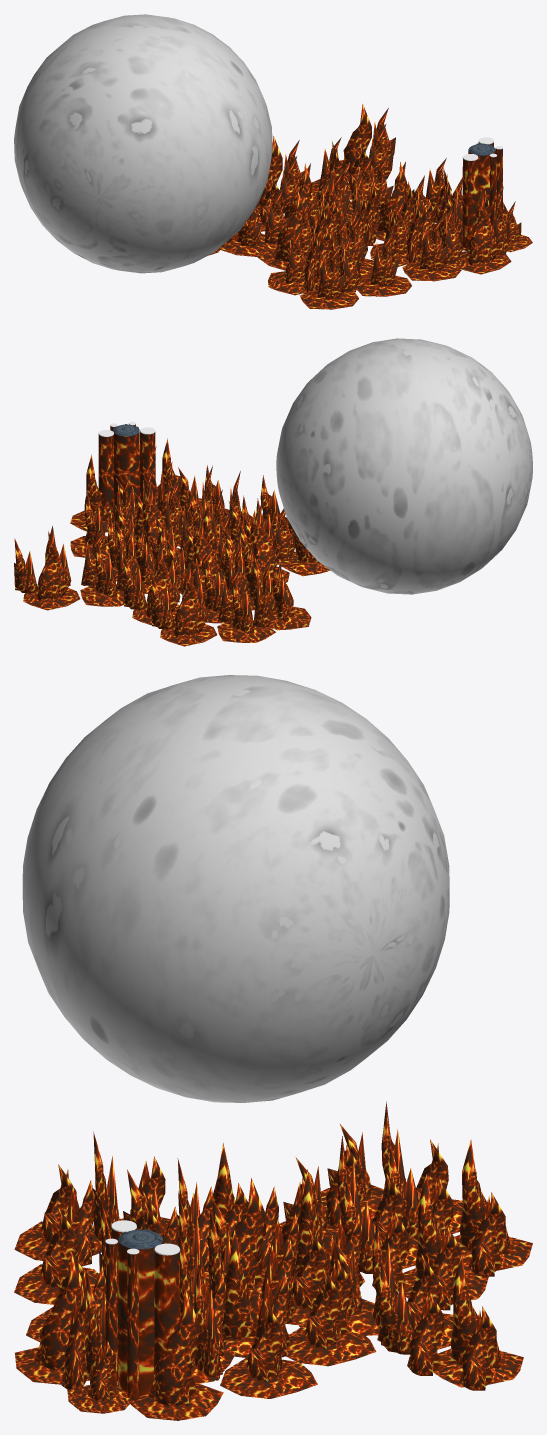
Rendered from death vally.fbx.
3 renders of one model, top to bottom at view 1: azimuth 30°, elevation 25°; view 2: azimuth 150°, elevation 25°; view 3: azimuth 270°, elevation 25°, orthographic. The views are drawn at different scales.
Parts seen in each view (by area): view 1: Sphere, Stein_Stele.003, floor_segment:Mesh.005, Stein_Stele.028, Stein_Stele.052, Stein_Stele.016, Stein_Stele.030, Stein_Stele.012, Grass.012, Stein_Stele.009, Grass.015, Stein_Stele.024 (+38 smaller); view 2: Sphere, floor_segment:Mesh, Stein_Stele.060, Stein_Stele.052, floor_segment:Mesh.004, Stein_Stele.028, floor_segment:Mesh.005, Stein_Stele.044, Stein_Stele.009, Stein_Stele.067, Stein_Stele.059, Stein_Stele.051 (+37 smaller); view 3: Sphere, floor_segment:Mesh, Stein_Stele, Stein_Stele.003, Stein_Stele.009, floor_segment:Mesh.004, Grass.007, Grass.009, Stein_Stele.057, Stein_Stele.001, Stein_Stele.056, Stein_Stele.059 (+48 smaller).
Boxes of the visible parts, bbox=[...] form: Sphere: bbox=[14, 14, 272, 273]; Stein_Stele.003: bbox=[466, 189, 500, 265]; floor_segment:Mesh.005: bbox=[462, 159, 478, 250]; Stein_Stele.028: bbox=[275, 190, 304, 261]; Stein_Stele.052: bbox=[341, 104, 371, 173]; Stein_Stele.016: bbox=[370, 231, 398, 287]; Stein_Stele.030: bbox=[317, 244, 345, 300]; Stein_Stele.012: bbox=[419, 216, 448, 271]; Grass.012: bbox=[356, 273, 411, 296]; Stein_Stele.009: bbox=[377, 162, 406, 232]; Grass.015: bbox=[300, 286, 358, 309]; Stein_Stele.024: bbox=[441, 204, 463, 264]; Sphere: bbox=[276, 338, 532, 594]; floor_segment:Mesh: bbox=[113, 430, 139, 519]; Stein_Stele.060: bbox=[173, 562, 206, 637]; Stein_Stele.052: bbox=[36, 526, 69, 601]; floor_segment:Mesh.004: bbox=[98, 435, 114, 519]; Stein_Stele.028: bbox=[250, 506, 278, 580]; floor_segment:Mesh.005: bbox=[140, 432, 155, 504]; Stein_Stele.044: bbox=[145, 542, 178, 616]; Stein_Stele.009: bbox=[142, 483, 168, 555]; Stein_Stele.067: bbox=[151, 574, 174, 629]; Stein_Stele.059: bbox=[14, 538, 37, 593]; Stein_Stele.051: bbox=[123, 555, 146, 609]; Sphere: bbox=[22, 675, 449, 1102]; floor_segment:Mesh: bbox=[117, 1239, 163, 1395]; Stein_Stele: bbox=[149, 1289, 200, 1406]; Stein_Stele.003: bbox=[35, 1253, 86, 1370]; Stein_Stele.009: bbox=[222, 1229, 262, 1339]; floor_segment:Mesh.004: bbox=[154, 1251, 180, 1366]; Grass.007: bbox=[220, 1357, 317, 1398]; Grass.009: bbox=[286, 1325, 376, 1366]; Stein_Stele.057: bbox=[378, 1258, 413, 1354]; Stein_Stele.001: bbox=[221, 1178, 266, 1288]; Stein_Stele.056: bbox=[407, 1292, 444, 1375]; Stein_Stele.059: bbox=[459, 1306, 496, 1390].
Size of what is drawn, in the model's own units: 11497 by 6342 by 6711.
